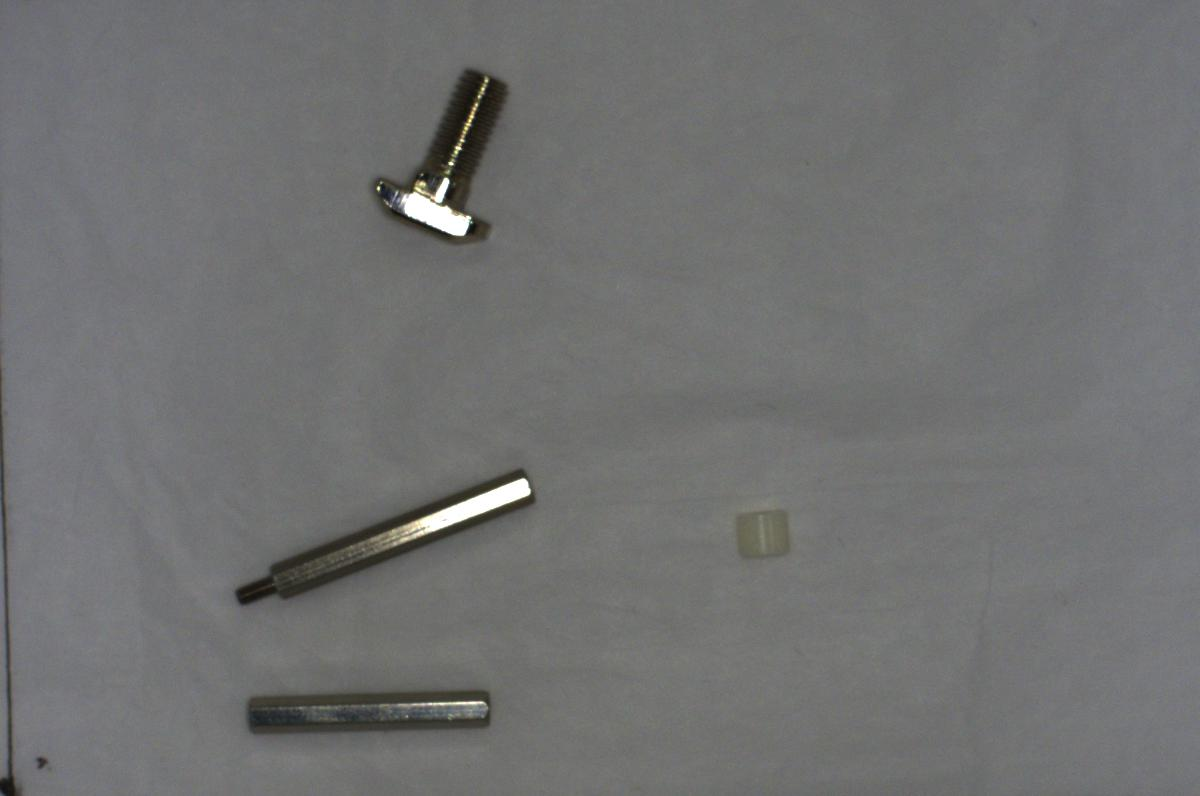Double hexagonal column: (244, 678, 502, 739)
Hexagonal steel column: (228, 460, 545, 606)
Plastic cushion pillar: (720, 502, 795, 569)
T-shaped screw: (368, 67, 512, 249)
